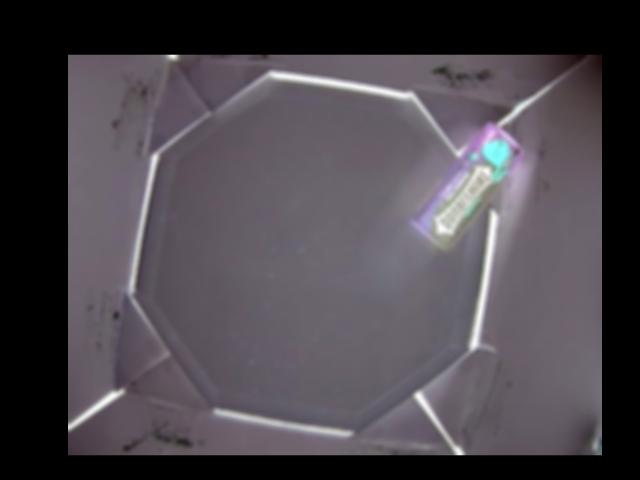Bottle: (411, 124, 525, 252)
